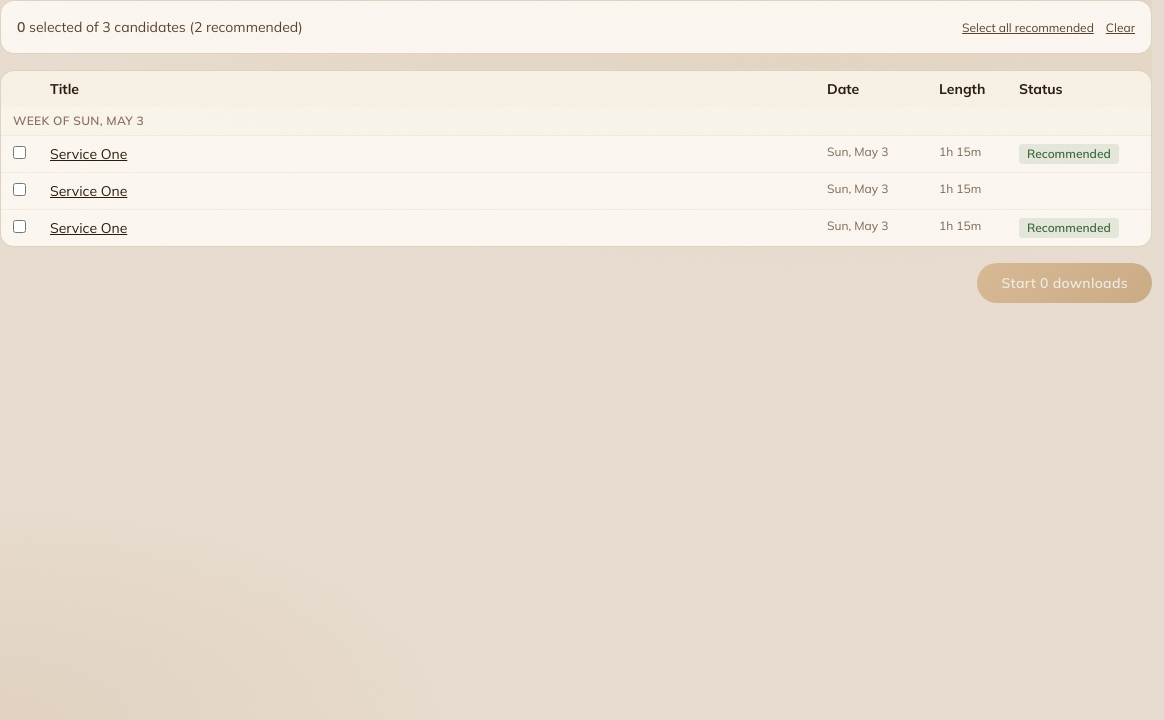
Test: <BulkImportFlow /> review (phase 2) › "Select all recommended" snaps selection to recommended items
Click the button "Select all recommended". click: (1028, 28)
box: [962, 20, 1094, 36]
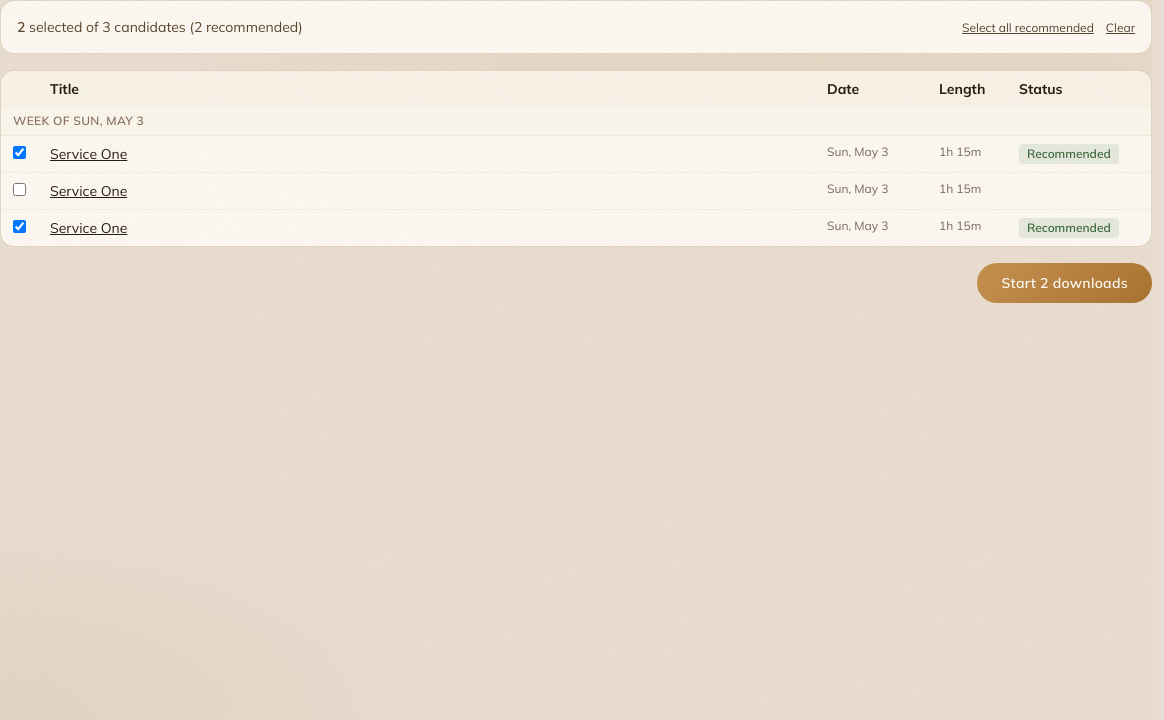
Expected: the 2nd checkbox named "Service One" is not checked, [13, 183, 26, 196]
Expected: the 1st checkbox named "Service One" is checked, [13, 146, 26, 159]
Expected: the 3rd checkbox named "Service One" is checked, [13, 220, 26, 233]
